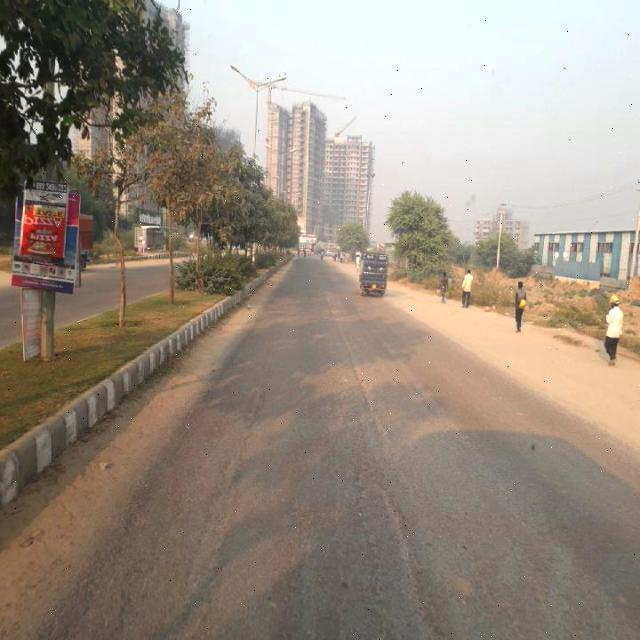D00: (165, 368, 274, 638), (351, 458, 430, 628), (314, 314, 392, 458)
